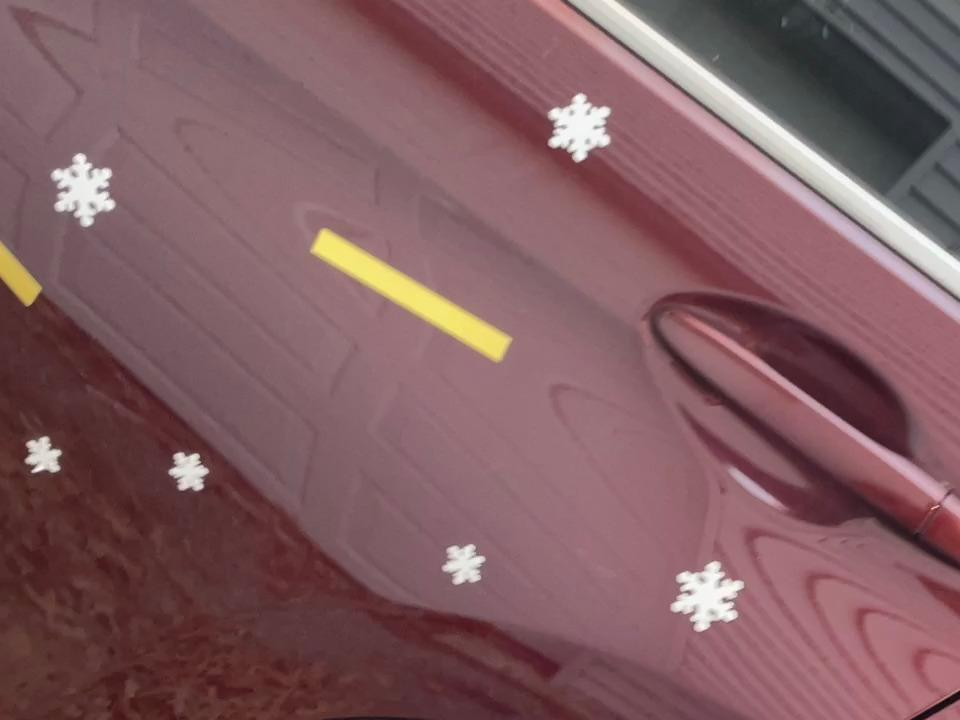dent: (43, 131, 124, 242), (661, 551, 752, 641), (539, 91, 619, 170), (159, 443, 218, 501), (441, 539, 496, 593), (23, 429, 73, 484)
scratch: (307, 217, 518, 376)
